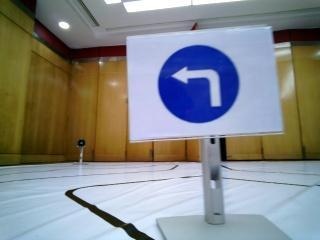left: (128, 36, 273, 134)
